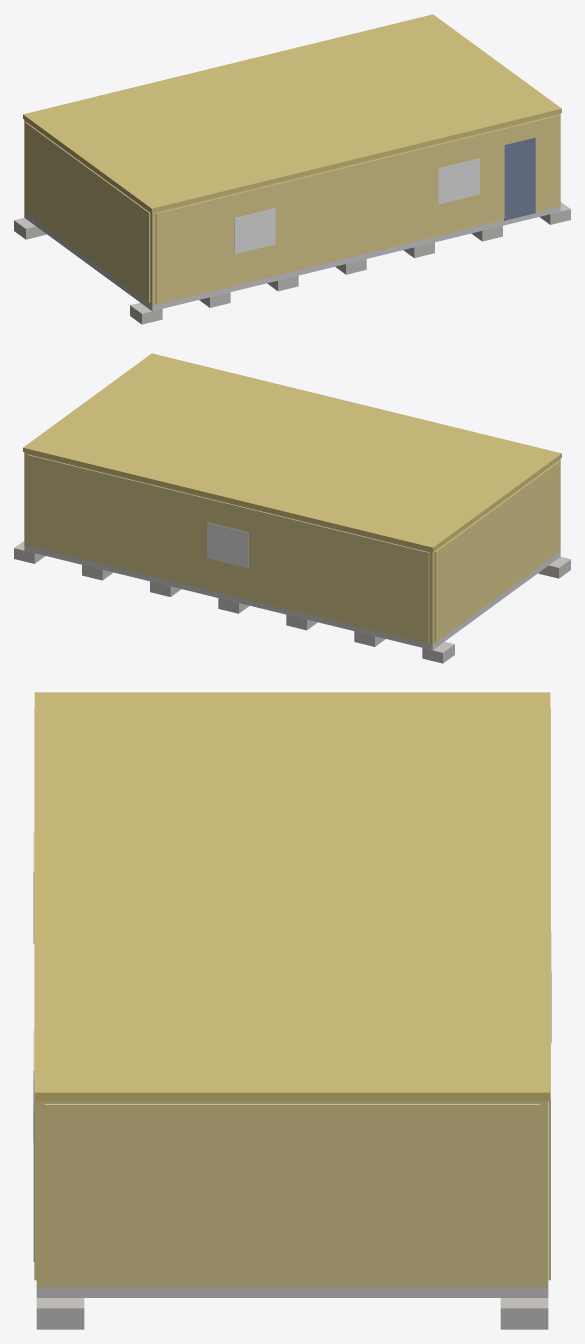
Rendered from Studio-40-Base-DesertYellow-LOD1.glb.
3 views of the same model, one above another, from view 1: azimuth 30°, elevation 25°; view 2: azimuth 150°, elevation 25°; view 3: azimuth 270°, elevation 25° (orthographic). The views are drawn at different scales.
Parts seen in each view (by area): view 1: RoofMain, ExteriorPanelsStandard, BaseFrame, WindowsStandard, ExteriorShell, FoundationBlocks, EntryDoor; view 2: RoofMain, ExteriorPanelsStandard, BaseFrame, ExteriorShell, FoundationBlocks, WindowsStandard; view 3: RoofMain, ExteriorPanelsStandard, ExteriorShell, BaseFrame, FoundationBlocks.
Boxes of the visible parts, bbox=[...] form: RoofMain: bbox=[23, 14, 561, 212]; ExteriorPanelsStandard: bbox=[25, 115, 557, 303]; BaseFrame: bbox=[24, 206, 560, 311]; WindowsStandard: bbox=[234, 158, 479, 254]; ExteriorShell: bbox=[24, 113, 560, 305]; FoundationBlocks: bbox=[14, 202, 570, 324]; EntryDoor: bbox=[504, 137, 535, 220]; RoofMain: bbox=[23, 353, 561, 551]; ExteriorPanelsStandard: bbox=[27, 454, 559, 642]; BaseFrame: bbox=[24, 545, 560, 650]; ExteriorShell: bbox=[24, 452, 560, 644]; FoundationBlocks: bbox=[14, 541, 570, 663]; WindowsStandard: bbox=[207, 522, 248, 568]; RoofMain: bbox=[34, 692, 550, 1101]; ExteriorPanelsStandard: bbox=[34, 708, 550, 1284]; ExteriorShell: bbox=[36, 1101, 548, 1287]; BaseFrame: bbox=[36, 1287, 548, 1297]; FoundationBlocks: bbox=[36, 1298, 548, 1329].
Size of the model in its own units: 12.49 by 3.17 by 6.53.
